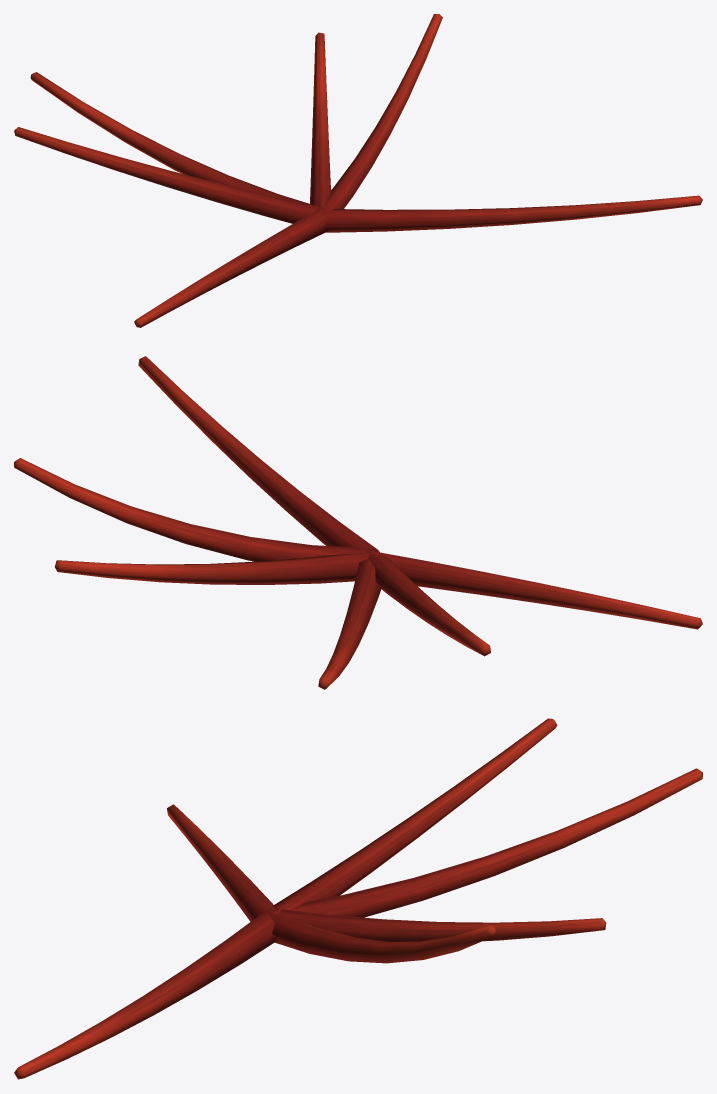
Rendered from madderroot.glb.
3 views of the same model, one above another, from view 1: azimuth 30°, elevation 25°; view 2: azimuth 150°, elevation 25°; view 3: azimuth 270°, elevation 25° (orthographic). The views are drawn at different scales.
Visible parts, largest first — view 1: madderroot; view 2: madderroot; view 3: madderroot.
Boxes of the visible parts, x1,y1,x2,y2 form: madderroot: (14,14,702,327); madderroot: (14,356,702,689); madderroot: (14,718,702,1079).
Size of the model in its own units: 0.276 by 0.0634 by 0.2487.
Materials: 1 (1 with a texture image).
